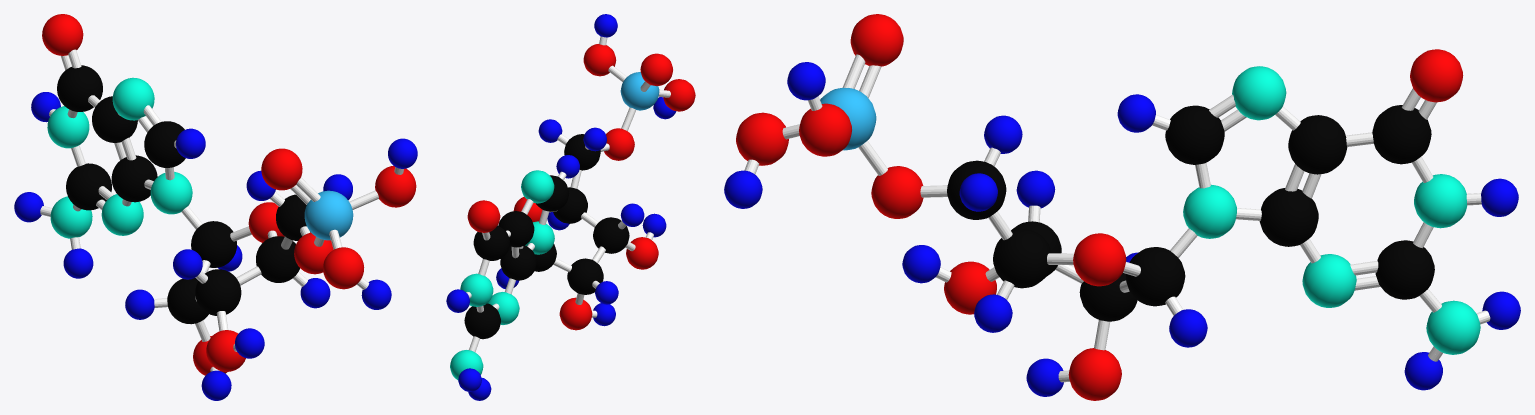
Rendered from guanosina.obj.
The picture shows the model from 3 angles, left to right: view 1: azimuth 30°, elevation 25°; view 2: azimuth 150°, elevation 25°; view 3: azimuth 270°, elevation 25°; orthographic projection. The views are drawn at different scales.
Visible parts, largest first — view 1: fosforo_Shape_Sphere.001, carbono.003_Shape_Sphere.012, carbono.009_Shape_Sphere.024, carbono.005_Shape_Sphere.014, carbono.008_Shape_Sphere.023, carbono_Shape_Sphere.027, carbono.002_Shape_Sphere.009, carbono.006_Shape_Sphere.019, oxigenio.001_Shape_Sphere.007, oxigenio.002_Shape_Sphere.004, nitrogenio.002_Shape_Sphere.020, nitrogenio.001_Shape_Sphere.018 (+25 smaller); view 2: fosforo_Shape_Sphere.001, carbono.003_Shape_Sphere.012, carbono_Shape_Sphere.027, carbono.004_Shape_Sphere.013, carbono.008_Shape_Sphere.023, carbono.009_Shape_Sphere.024, carbono.007_Shape_Sphere.022, nitrogenio.002_Shape_Sphere.020, oxigenio.006_Shape_Sphere.032, oxigenio.001_Shape_Sphere.007, oxigenio.007_Shape_Sphere.002, oxigenio_Shape_Sphere.036 (+24 smaller); view 3: carbono.007_Shape_Sphere.022, carbono.006_Shape_Sphere.019, carbono_Shape_Sphere.027, carbono.009_Shape_Sphere.024, carbono.008_Shape_Sphere.023, carbono.002_Shape_Sphere.009, carbono.005_Shape_Sphere.014, nitrogenio.002_Shape_Sphere.020, nitrogenio.001_Shape_Sphere.018, nitrogenio_Shape_Sphere.029, nitrogenio.003_Shape_Sphere.025, nitrogenio.004_Shape_Sphere.026 (+24 smaller).
Boxes of the visible parts, <box> form: fosforo_Shape_Sphere.001: <box>304,190,353,240</box>; carbono.003_Shape_Sphere.012: <box>195,269,241,315</box>; carbono.009_Shape_Sphere.024: <box>57,65,102,111</box>; carbono.005_Shape_Sphere.014: <box>191,221,236,267</box>; carbono.008_Shape_Sphere.023: <box>111,155,157,202</box>; carbono_Shape_Sphere.027: <box>66,163,111,210</box>; carbono.002_Shape_Sphere.009: <box>256,236,299,282</box>; carbono.006_Shape_Sphere.019: <box>144,121,185,167</box>; oxigenio.001_Shape_Sphere.007: <box>261,148,302,190</box>; oxigenio.002_Shape_Sphere.004: <box>323,247,364,289</box>; nitrogenio.002_Shape_Sphere.020: <box>112,77,154,120</box>; nitrogenio.001_Shape_Sphere.018: <box>150,172,192,214</box>; fosforo_Shape_Sphere.001: <box>620,72,659,110</box>; carbono.003_Shape_Sphere.012: <box>593,217,629,253</box>; carbono_Shape_Sphere.027: <box>464,303,500,339</box>; carbono.004_Shape_Sphere.013: <box>567,258,603,294</box>; carbono.008_Shape_Sphere.023: <box>500,245,536,280</box>; carbono.009_Shape_Sphere.024: <box>473,225,509,260</box>; carbono.007_Shape_Sphere.022: <box>498,211,534,247</box>; nitrogenio.002_Shape_Sphere.020: <box>521,170,554,203</box>; oxigenio.006_Shape_Sphere.032: <box>467,200,500,232</box>; oxigenio.001_Shape_Sphere.007: <box>640,53,672,86</box>; oxigenio.007_Shape_Sphere.002: <box>583,44,616,76</box>; oxigenio_Shape_Sphere.036: <box>559,297,592,330</box>; carbono.007_Shape_Sphere.022: <box>1288,115,1347,174</box>; carbono.006_Shape_Sphere.019: <box>1165,105,1224,164</box>; carbono_Shape_Sphere.027: <box>1375,240,1434,299</box>; carbono.009_Shape_Sphere.024: <box>1372,105,1431,164</box>; carbono.008_Shape_Sphere.023: <box>1259,188,1318,246</box>; carbono.002_Shape_Sphere.009: <box>993,229,1051,288</box>; carbono.005_Shape_Sphere.014: <box>1125,247,1185,306</box>; nitrogenio.002_Shape_Sphere.020: <box>1232,66,1286,120</box>; nitrogenio.001_Shape_Sphere.018: <box>1183,184,1236,238</box>; nitrogenio_Shape_Sphere.029: <box>1426,300,1480,354</box>; nitrogenio.003_Shape_Sphere.025: <box>1414,174,1466,228</box>; nitrogenio.004_Shape_Sphere.026: <box>1302,254,1356,307</box>.
Size of the model in its own units: 4.1 by 7.33 by 13.64.
